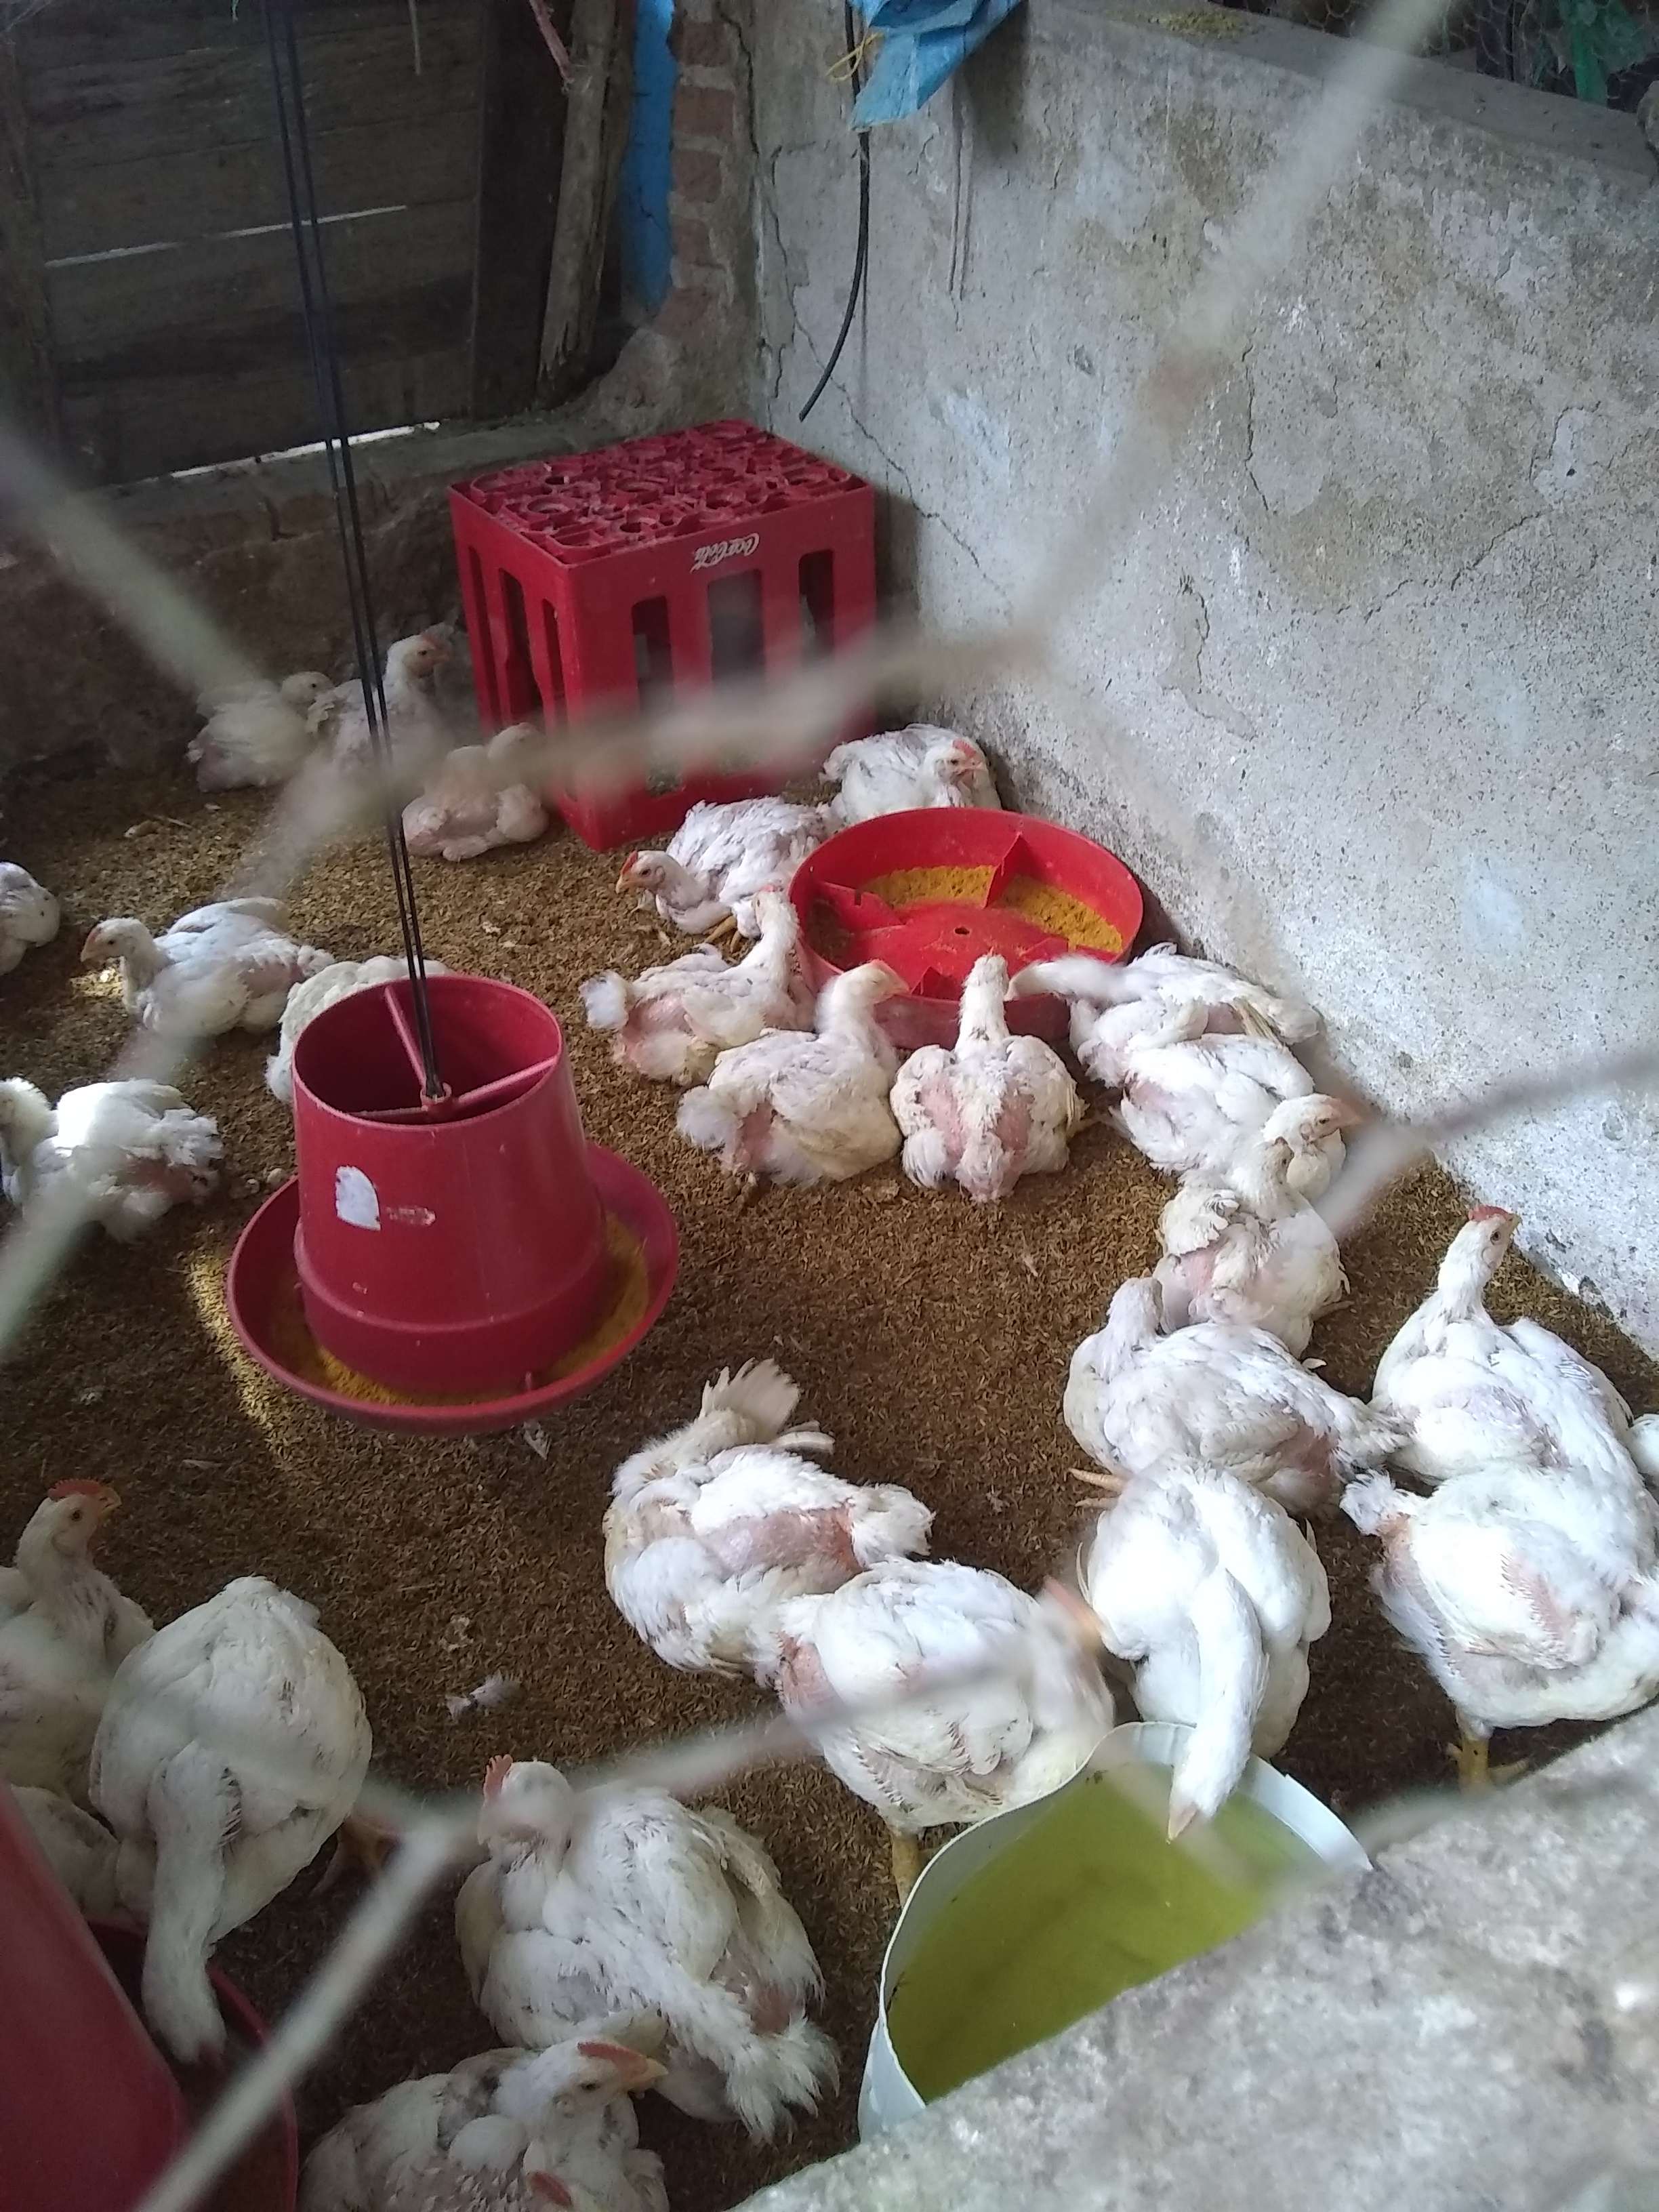Pollos: (376, 1702, 817, 2102), (781, 1543, 1154, 1890), (127, 1557, 378, 2069), (1354, 1460, 1659, 1815), (1073, 1416, 1324, 1831), (1382, 1195, 1659, 1489), (549, 1366, 826, 1615), (300, 2029, 673, 2212), (1033, 1282, 1382, 1475), (688, 961, 931, 1217), (0, 1451, 176, 1799), (894, 928, 1087, 1200), (0, 1064, 221, 1254), (73, 876, 310, 1040), (561, 913, 809, 1061), (1119, 1127, 1345, 1284), (587, 772, 823, 911), (788, 695, 1012, 838), (1115, 1012, 1356, 1141), (319, 617, 469, 803), (157, 631, 328, 786), (1009, 932, 1286, 1024), (406, 688, 547, 852), (0, 836, 64, 993)
